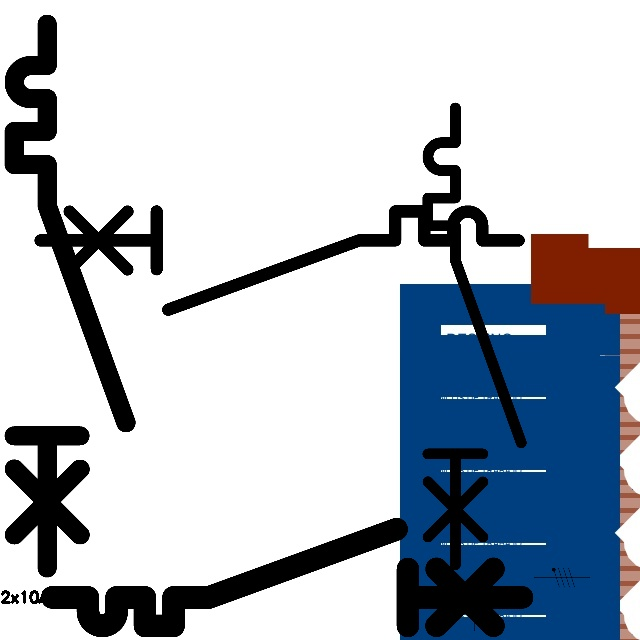interruptor_termomagnetico: (0, 10, 140, 581), (28, 199, 531, 322), (40, 517, 534, 638), (416, 96, 533, 576)
